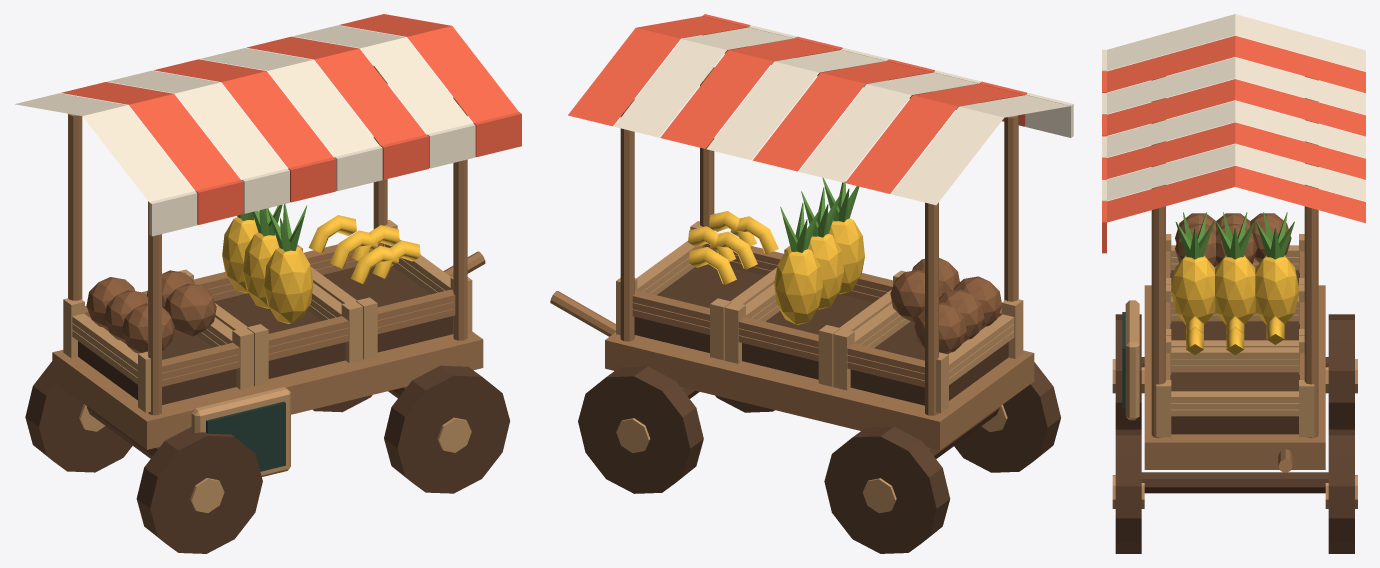
The model's file is fruit-cart.glb.
3 renders of one model, left to right at view 1: azimuth 30°, elevation 25°; view 2: azimuth 150°, elevation 25°; view 3: azimuth 270°, elevation 25°, orthographic. The views are drawn at different scales.
Visible parts, largest first — view 1: Fruit cart deck, Wooden cart wheel.002, Wooden cart wheel, Coral cream awning stripe.002, Coral cream awning stripe.005, Coral cream awning stripe.007, Coral cream awning stripe.003, Coral cream awning stripe.004, Coral cream awning stripe, Coral cream awning stripe.001, Coral cream awning stripe.006, Wooden cart wheel.001 (+44 smaller); view 2: Fruit cart deck, Wooden cart wheel.001, Wooden cart wheel.003, Coral cream awning stripe, Coral cream awning stripe.001, Coral cream awning stripe.004, Coral cream awning stripe.006, Coral cream awning stripe.007, Coral cream awning stripe.002, Coral cream awning stripe.003, Coral cream awning stripe.005, Wooden cart wheel (+37 smaller); view 3: Fruit cart deck, Coral cream awning stripe, Coral cream awning stripe.002, Coral cream awning stripe.003, Coral cream awning stripe.005, Coral cream awning stripe.001, Coral cream awning stripe.004, Coral cream awning stripe.006, Coral cream awning stripe.007, Fruit display crate bottom.002, Cart axle.001, Wooden cart wheel.002 (+27 smaller).
Part boxes in pixels (box(x1,y1,x2,y2)): Fruit cart deck: box(52, 331, 483, 449); Wooden cart wheel.002: box(384, 365, 509, 493); Wooden cart wheel: box(136, 427, 262, 553); Coral cream awning stripe.002: box(107, 70, 286, 179); Coral cream awning stripe.005: box(246, 36, 425, 145); Coral cream awning stripe.007: box(339, 14, 518, 122); Coral cream awning stripe.003: box(154, 59, 333, 168); Coral cream awning stripe.004: box(200, 48, 379, 156); Coral cream awning stripe: box(15, 93, 194, 202); Coral cream awning stripe.001: box(61, 82, 240, 190); Coral cream awning stripe.006: box(293, 25, 472, 134); Wooden cart wheel.001: box(25, 361, 132, 472); Fruit cart deck: box(605, 332, 1034, 450); Wooden cart wheel.001: box(824, 426, 950, 553); Wooden cart wheel.003: box(578, 366, 703, 493); Coral cream awning stripe: box(891, 95, 1070, 205); Coral cream awning stripe.001: box(845, 83, 1024, 193); Coral cream awning stripe.004: box(706, 50, 885, 160); Coral cream awning stripe.006: box(614, 27, 793, 137); Coral cream awning stripe.007: box(568, 16, 747, 126); Coral cream awning stripe.002: box(799, 72, 977, 182); Coral cream awning stripe.003: box(752, 61, 931, 171); Coral cream awning stripe.005: box(660, 38, 838, 148); Wooden cart wheel: box(954, 362, 1060, 472); Fruit cart deck: box(1144, 285, 1325, 469); Coral cream awning stripe: box(1107, 14, 1365, 71); Coral cream awning stripe.002: box(1107, 57, 1365, 114); Coral cream awning stripe.003: box(1107, 79, 1365, 136); Coral cream awning stripe.005: box(1107, 122, 1365, 179); Coral cream awning stripe.001: box(1107, 35, 1365, 93); Coral cream awning stripe.004: box(1107, 100, 1365, 158); Coral cream awning stripe.006: box(1107, 144, 1365, 201); Coral cream awning stripe.007: box(1107, 165, 1365, 223); Fruit display crate bottom.002: box(1170, 372, 1299, 434); Cart axle.001: box(1141, 472, 1328, 493); Wooden cart wheel.002: box(1115, 429, 1141, 553).
Size of the model in its own units: 2.35 by 2.14 by 1.31.
